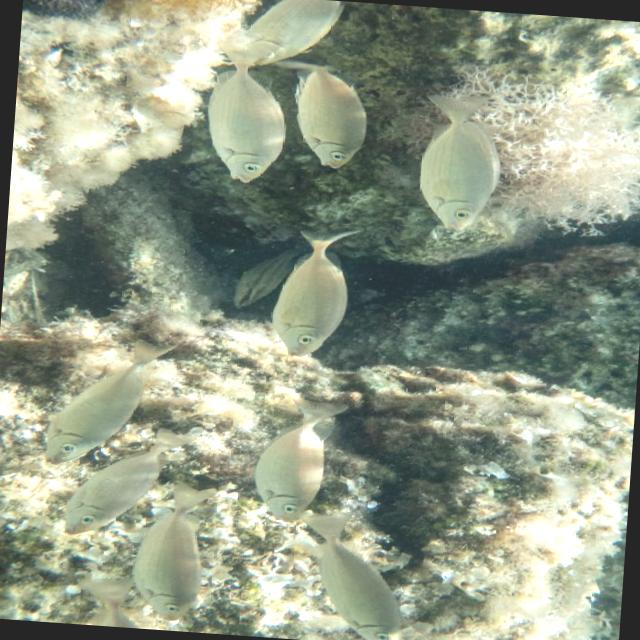Sokar Baligi: (398, 78, 518, 246), (187, 34, 299, 201), (258, 214, 380, 367), (237, 389, 361, 527)
